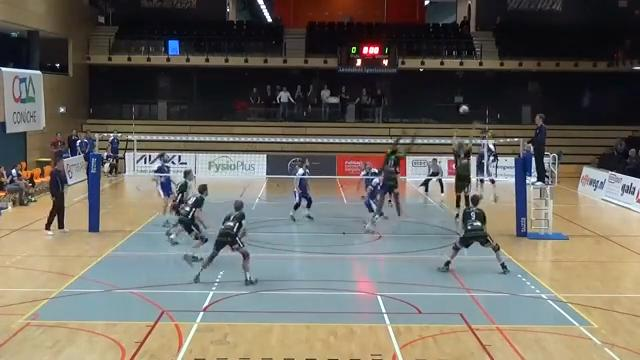attacco: (476, 125, 503, 207)
muro: (374, 125, 418, 225), (451, 129, 479, 226)
